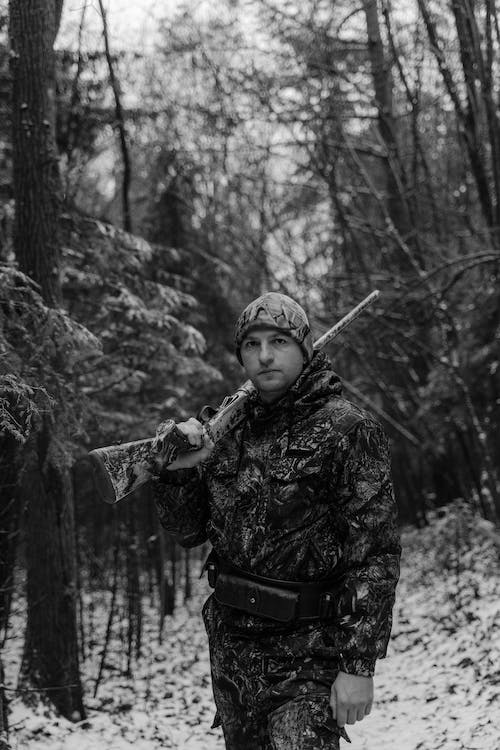gun: (85, 285, 386, 504)
